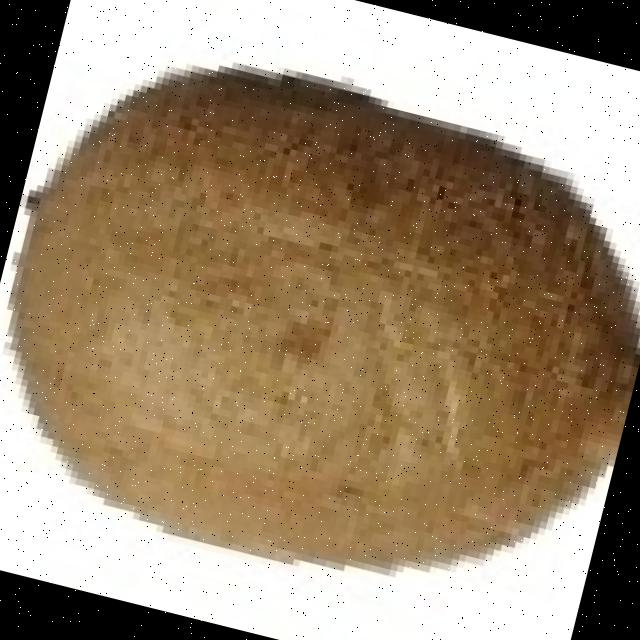kiwi: (3, 78, 626, 568)
